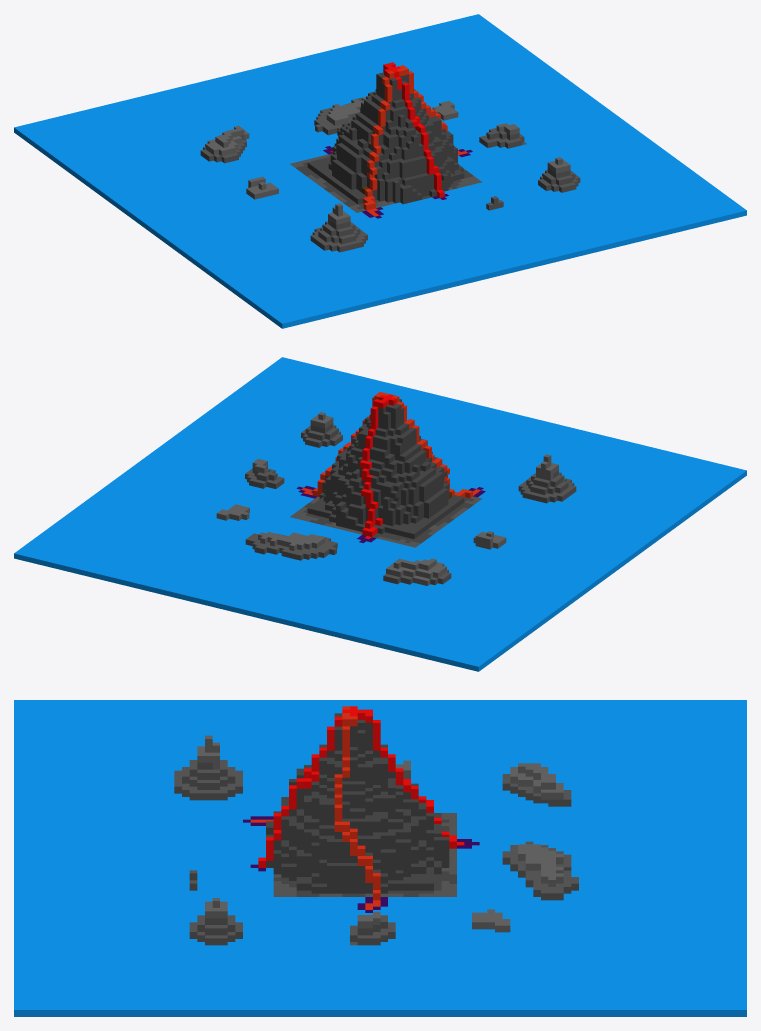
Rendered from valcano2.obj.
The picture shows the model from 3 angles, top to bottom: view 1: azimuth 30°, elevation 25°; view 2: azimuth 150°, elevation 25°; view 3: azimuth 270°, elevation 25°; orthographic projection. The views are drawn at different scales.
Bounding box in the file's own units: 96 × 22 × 96.
Materials: 1 (1 with a texture image).
